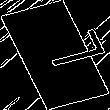L_W: (15, 32, 95, 78)
